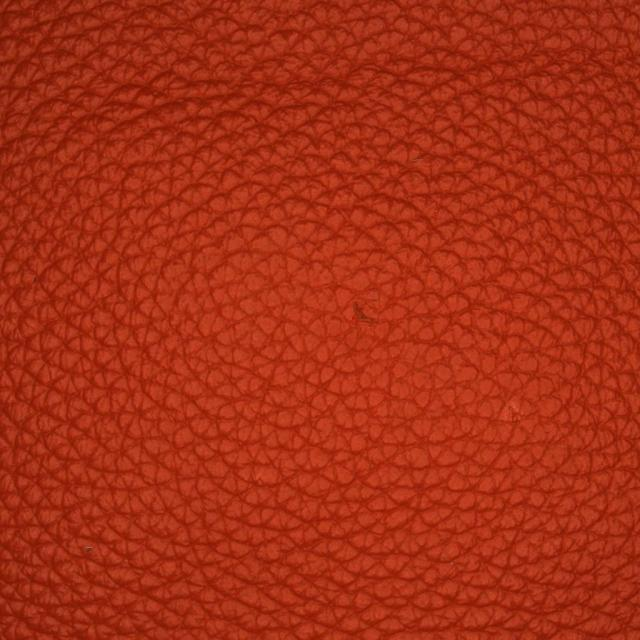Scratch: (302, 227, 423, 392)
